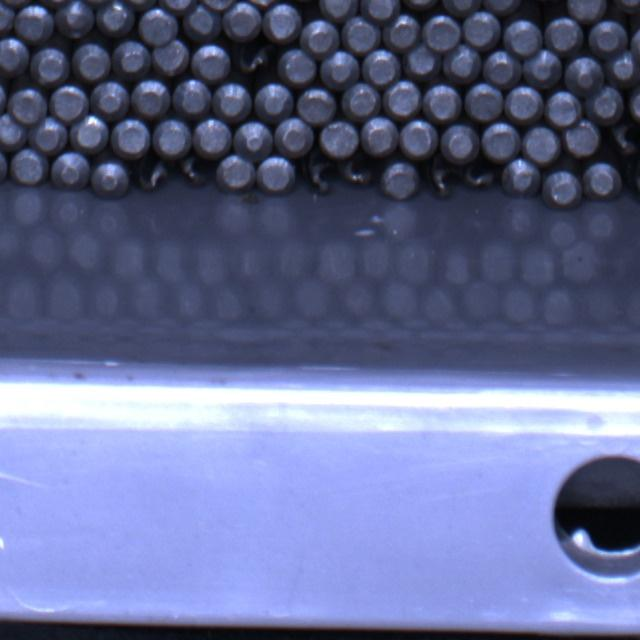tool: (233, 119, 274, 161), (151, 117, 192, 158), (112, 116, 152, 158), (130, 77, 170, 118), (482, 121, 522, 162), (566, 54, 606, 95), (522, 49, 564, 88), (273, 116, 313, 156), (520, 124, 560, 164), (68, 112, 108, 152), (223, 2, 263, 42), (90, 79, 130, 119), (442, 123, 481, 164), (192, 117, 231, 158), (399, 118, 438, 159), (583, 161, 622, 202), (91, 158, 130, 199), (441, 44, 481, 83), (301, 19, 340, 59), (424, 83, 463, 123), (15, 2, 55, 41), (563, 119, 602, 159), (502, 158, 541, 198), (361, 116, 399, 157), (263, 1, 301, 42), (464, 82, 503, 121), (50, 83, 89, 122), (322, 51, 361, 90), (360, 48, 399, 87), (545, 15, 584, 54), (256, 82, 295, 121), (50, 151, 89, 190), (504, 19, 544, 57), (138, 8, 178, 46), (74, 42, 112, 82), (319, 119, 359, 157), (383, 80, 421, 120), (582, 84, 622, 122), (181, 3, 221, 41), (461, 10, 500, 48), (483, 50, 522, 88), (423, 13, 462, 51), (506, 86, 545, 124), (212, 82, 250, 121), (340, 16, 379, 54), (192, 43, 231, 81), (30, 46, 68, 85), (542, 168, 581, 206), (96, 0, 135, 38), (29, 117, 68, 155), (151, 37, 190, 75), (383, 13, 421, 52), (8, 148, 47, 186), (381, 160, 420, 198), (113, 38, 151, 77), (403, 42, 442, 80), (588, 20, 628, 57), (295, 85, 335, 122), (54, 0, 94, 37), (8, 86, 48, 123), (277, 49, 317, 86), (174, 79, 212, 117), (342, 83, 381, 120), (217, 155, 256, 192), (258, 156, 295, 194), (546, 90, 583, 127), (606, 51, 640, 88), (0, 36, 30, 76), (0, 113, 28, 151), (566, 0, 608, 21), (359, 0, 400, 21), (319, 0, 359, 21), (441, 0, 483, 15), (482, 0, 523, 15), (0, 0, 15, 36), (158, 0, 198, 13), (628, 81, 640, 121), (402, 0, 443, 11), (114, 0, 158, 10), (198, 0, 240, 10), (0, 144, 8, 186), (0, 76, 7, 118), (0, 0, 38, 7)
tool_b: (298, 156, 336, 198), (178, 152, 213, 191), (422, 162, 458, 198), (234, 44, 272, 78), (338, 156, 374, 191), (606, 121, 640, 156), (134, 160, 170, 192), (461, 162, 498, 193)
